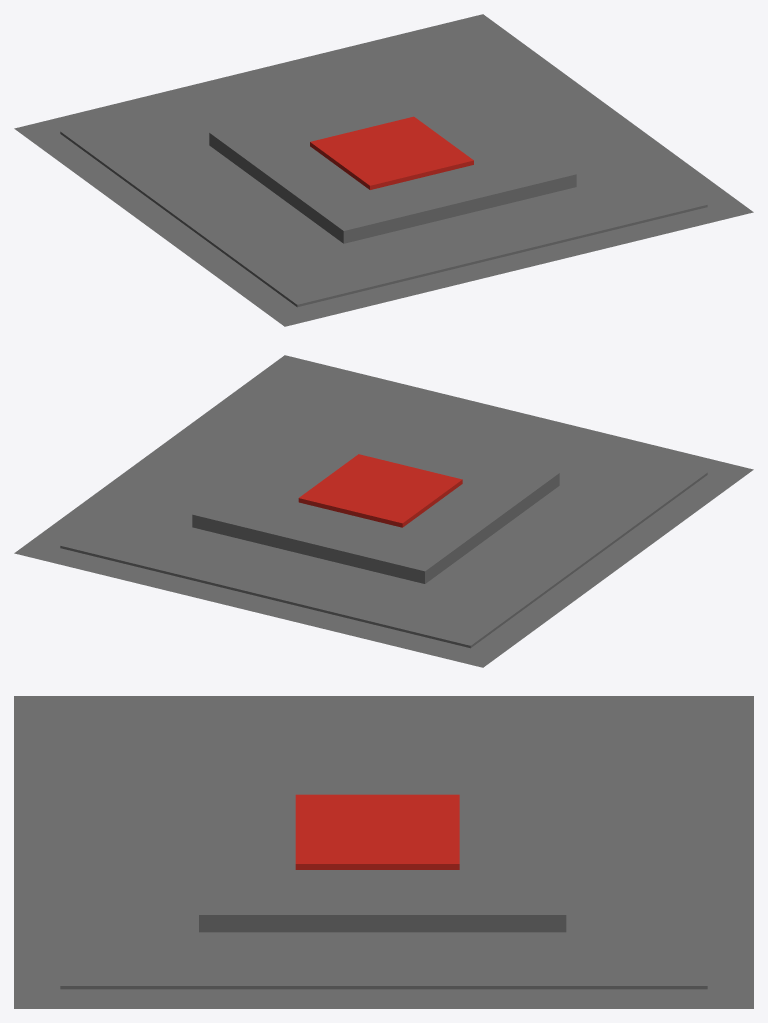
File: Knopf_gedrückt2.fbx
3 views of the same model, one above another, from view 1: azimuth 30°, elevation 25°; view 2: azimuth 150°, elevation 25°; view 3: azimuth 270°, elevation 25° (orthographic). The views are drawn at different scales.
Parts seen in each view (by area): view 1: Cube; view 2: Cube; view 3: Cube.
Boxes of the visible parts, <box> form: Cube: <box>14,14,753,326</box>; Cube: <box>14,355,753,667</box>; Cube: <box>14,696,753,1008</box>.
Bounding box in the file's own units: 100 × 4 × 100.
